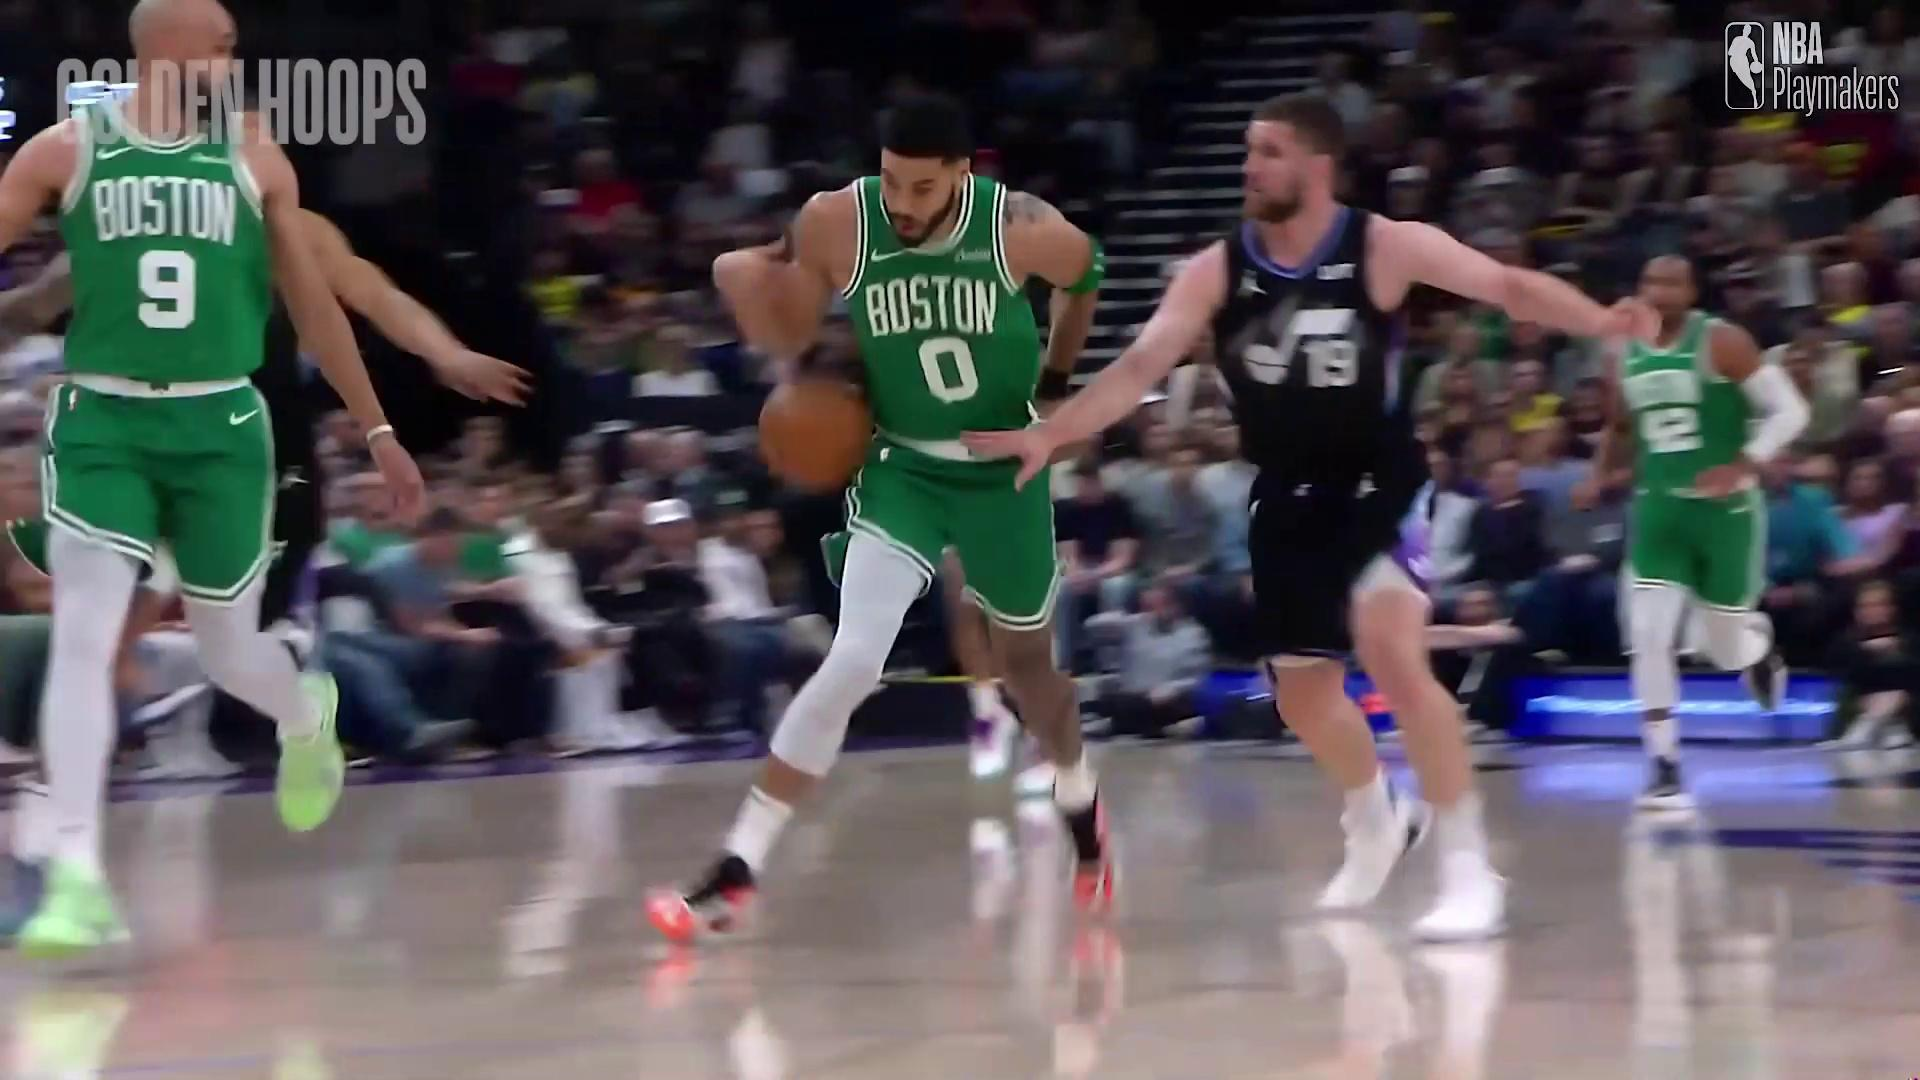ball: (754, 393, 868, 488)
